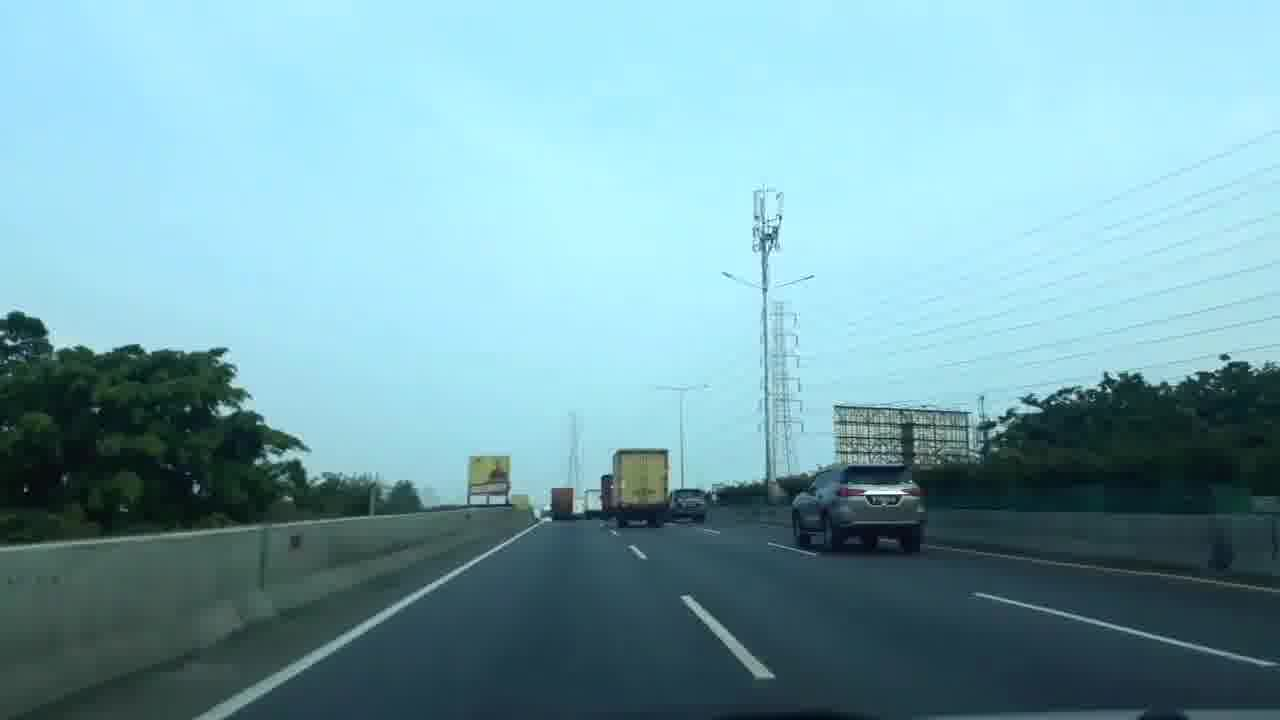plate_positive: (869, 495, 897, 505)
